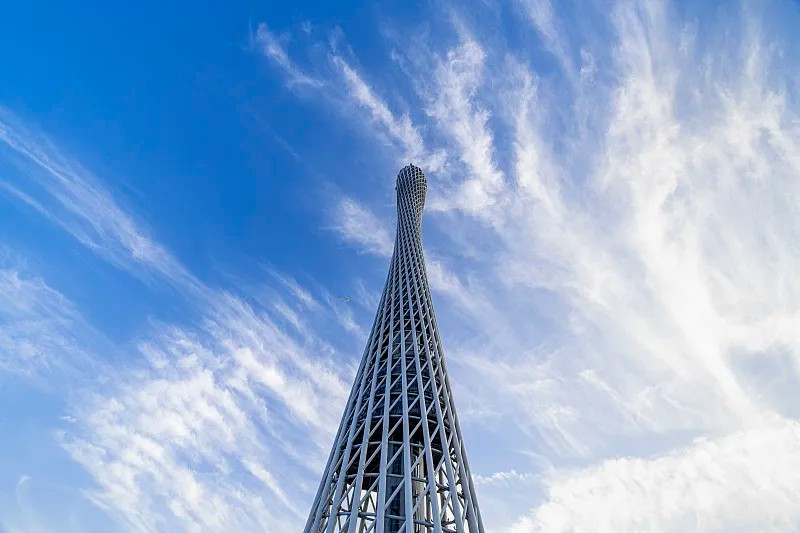Canton: (301, 163, 490, 533)
